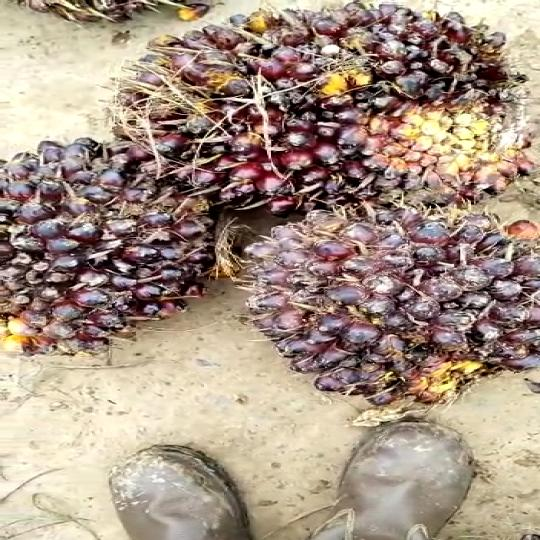kurang masak: (90, 2, 538, 216), (0, 142, 215, 361)
